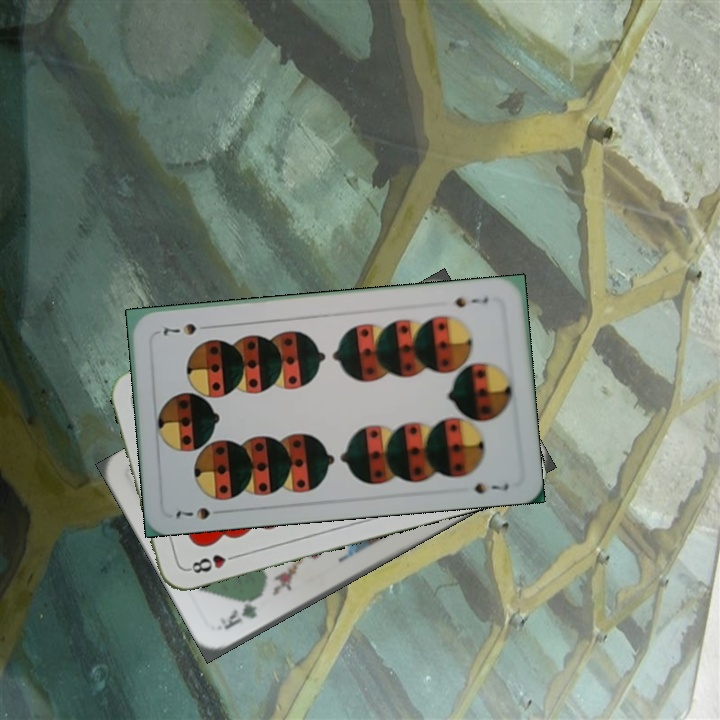GK: (220, 600, 260, 633)
H8: (183, 550, 242, 576)
S7: (172, 503, 212, 522), (447, 293, 491, 310)
